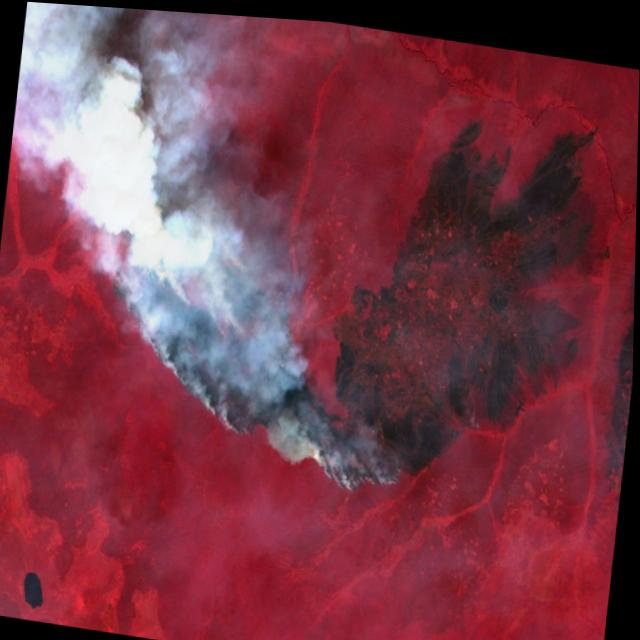fire: (87, 203, 429, 502)
